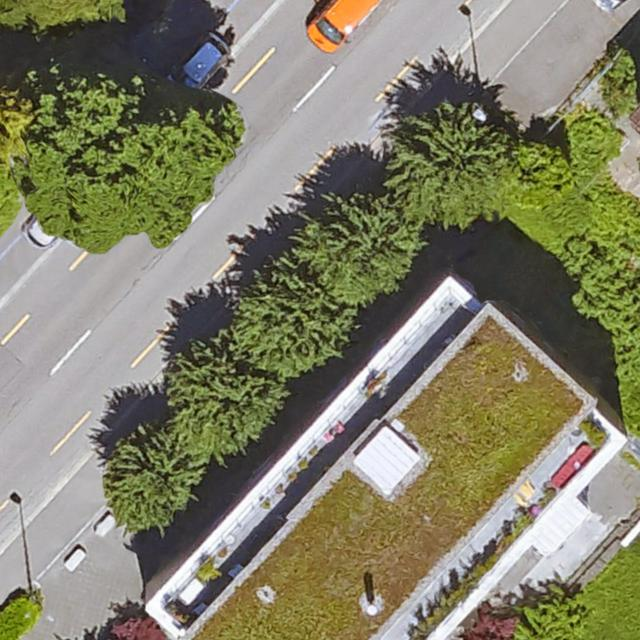tree: (27, 72, 235, 253), (388, 109, 514, 220), (290, 198, 415, 304), (166, 343, 281, 458), (227, 273, 349, 376), (102, 435, 198, 532), (511, 143, 571, 207), (522, 592, 589, 640), (602, 50, 639, 111)
